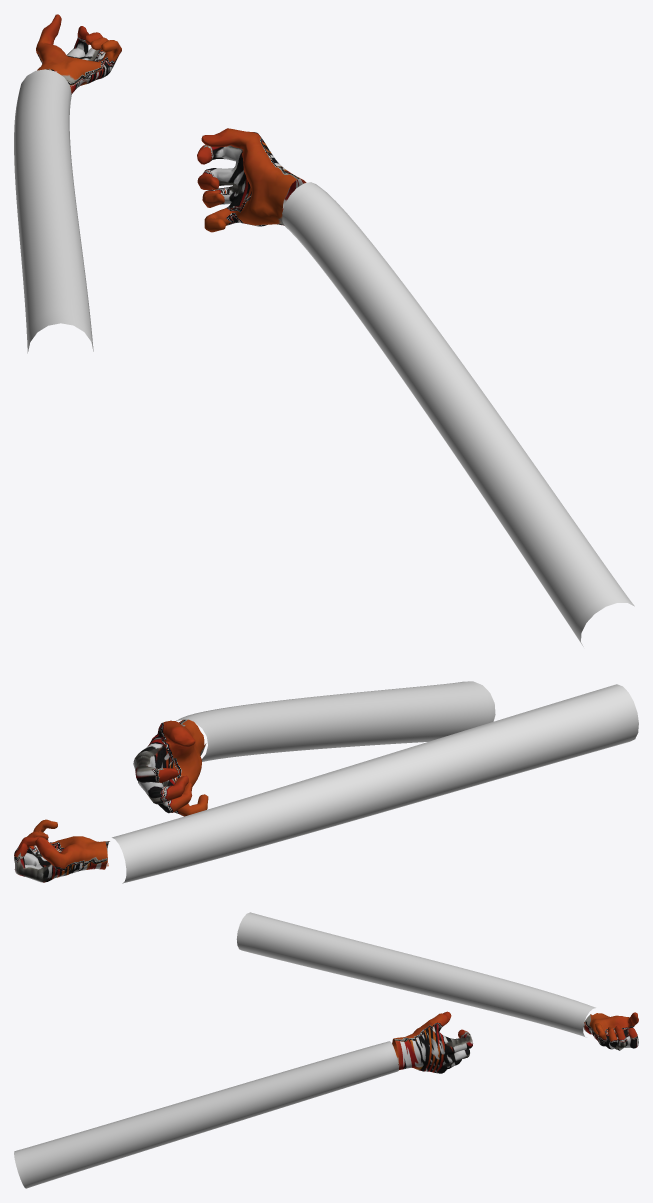
The model's file is fpa_nova.glb.
3 renders of one model, top to bottom at view 1: azimuth 30°, elevation 25°; view 2: azimuth 150°, elevation 25°; view 3: azimuth 270°, elevation 25°, orthographic. The views are drawn at different scales.
Parts seen in each view (by area): view 1: arms, hands; view 2: arms, hands; view 3: arms, hands.
Part boxes in pixels (x1,y1,x2,y2): arms: (14, 69, 634, 646); hands: (36, 14, 306, 232); arms: (112, 681, 638, 883); hands: (14, 719, 208, 882); arms: (14, 912, 595, 1188); hands: (392, 1011, 638, 1073).
Size of the model in its own units: 0.7328 by 0.4704 by 1.58.
Materials: 1 (1 with a texture image).
